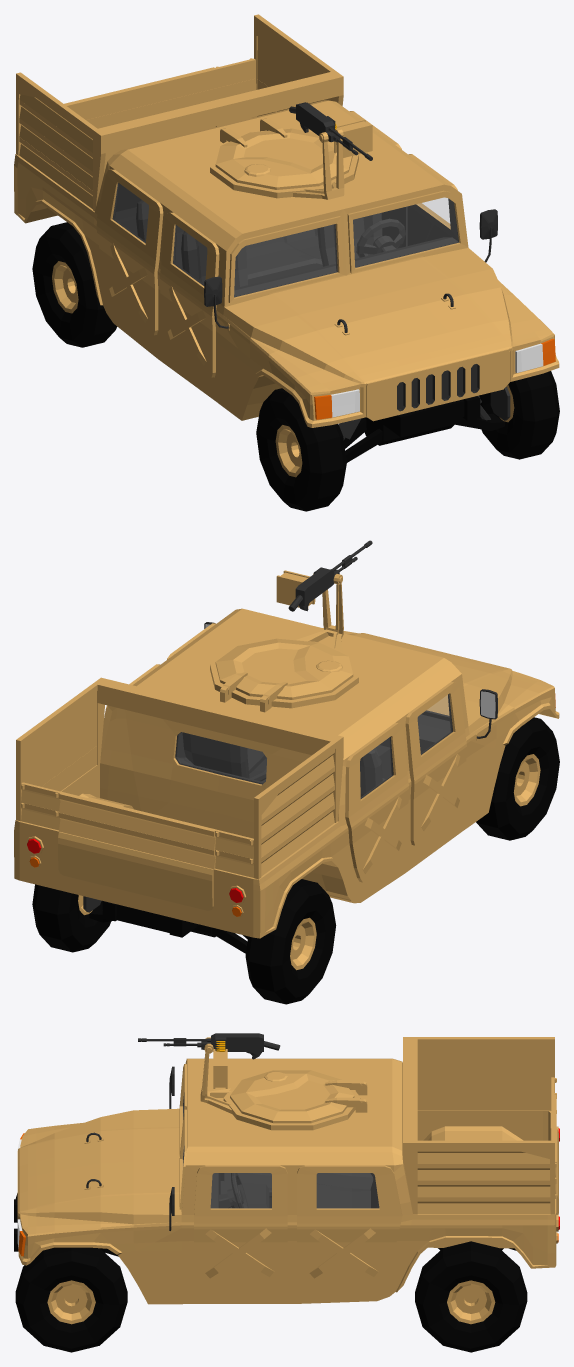
3 renders of one model, top to bottom at view 1: azimuth 30°, elevation 25°; view 2: azimuth 150°, elevation 25°; view 3: azimuth 270°, elevation 25°, orthographic. The views are drawn at different scales.
Parts seen in each view (by area): view 1: Plane, Plane.007, Plane.002, Plane.001, Cylinder.002, Plane.009, Cylinder.001, Plane.005, Plane.003, Cylinder, Cube.002, Plane.004 (+1 smaller); view 2: Plane, Plane.003, Plane.001, Plane.009, Cylinder.001, Plane.005, Cylinder.002, Plane.007, Cylinder.003, Plane.002, Cube.002, Cube.001; view 3: Plane, Plane.008, Plane.004, Cylinder.003, Cylinder, Plane.005, Plane.007, Cube.002, Cube.001, Plane.003.
Boxes of the visible parts, left/top/right/bottom form: Plane: left=14, top=14, right=559, bottom=462; Plane.007: left=115, top=184, right=458, bottom=297; Plane.002: left=234, top=198, right=458, bottom=296; Plane.001: left=96, top=169, right=163, bottom=335; Cylinder.002: left=256, top=388, right=346, bottom=511; Plane.009: left=159, top=212, right=219, bottom=377; Cylinder.001: left=32, top=222, right=117, bottom=347; Plane.005: left=215, top=119, right=352, bottom=189; Plane.003: left=64, top=67, right=216, bottom=175; Cylinder: left=479, top=371, right=559, bottom=459; Cube.002: left=289, top=102, right=372, bottom=160; Plane.004: left=407, top=154, right=457, bottom=245; Plane: left=14, top=608, right=559, bottom=953; Plane.003: left=58, top=792, right=216, bottom=910; Plane.001: left=345, top=722, right=408, bottom=882; Plane.009: left=405, top=682, right=466, bottom=845; Cylinder.001: left=245, top=879, right=336, bottom=1004; Plane.005: left=215, top=638, right=353, bottom=704; Cylinder.002: left=476, top=717, right=559, bottom=840; Plane.007: left=175, top=710, right=450, bottom=796; Cylinder.003: left=32, top=884, right=111, bottom=952; Plane.002: left=177, top=696, right=448, bottom=782; Cube.002: left=276, top=540, right=372, bottom=611; Cube.001: left=296, top=574, right=343, bottom=651; Plane: left=14, top=1037, right=559, bottom=1304; Plane.008: left=297, top=1165, right=402, bottom=1286; Plane.004: left=194, top=1165, right=287, bottom=1286; Cylinder.003: left=415, top=1241, right=527, bottom=1352; Cylinder: left=15, top=1247, right=127, bottom=1352; Plane.005: left=230, top=1070, right=362, bottom=1123; Plane.007: left=183, top=1092, right=379, bottom=1208; Cube.002: left=138, top=1033, right=280, bottom=1088; Cube.001: left=200, top=1037, right=232, bottom=1113; Plane.003: left=551, top=1094, right=558, bottom=1214.
Bounding box in the file's own units: 242 × 236 × 438.
